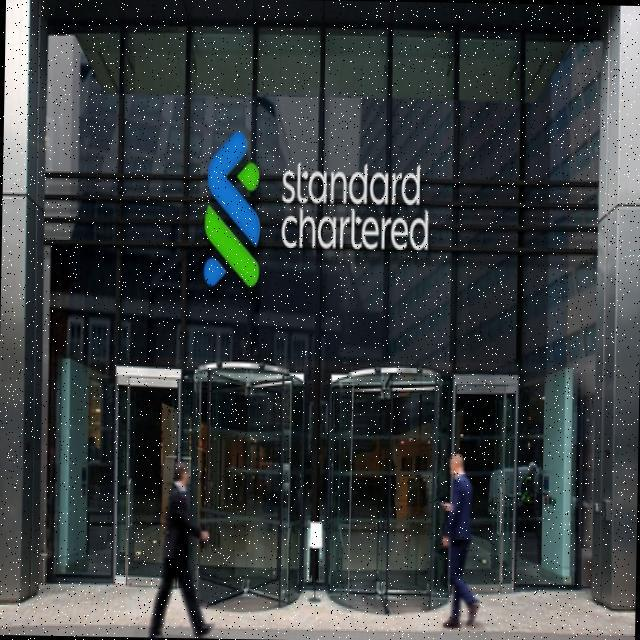Standard Chartered: (201, 132, 429, 294)
